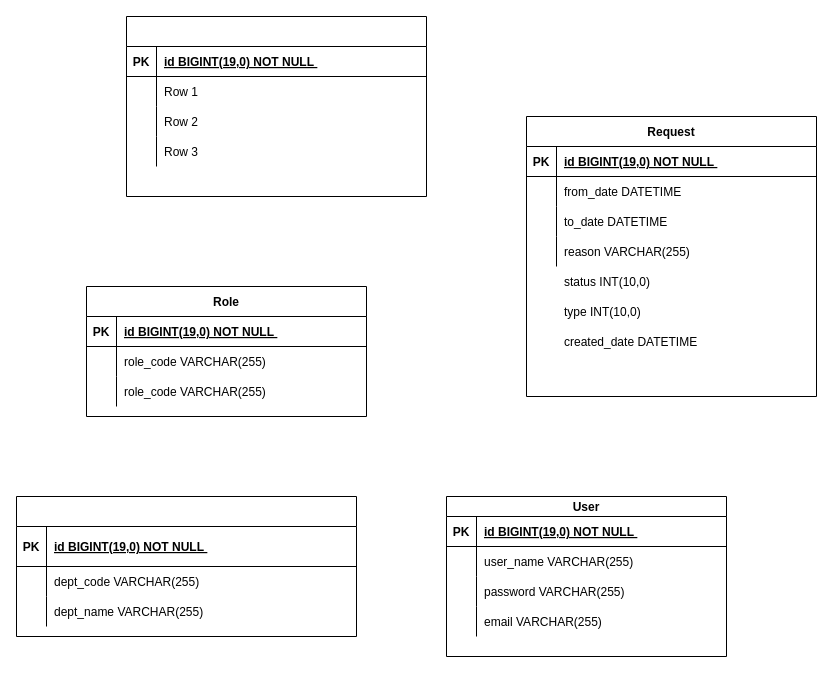
Image size: 833x673. Some labels were removed from this diagram. The shapes that lost their labels are listed below. From the top down, each one's box as (x1, y1, x2, y2) in pixels, then its label:
(126, 16, 426, 196): Material
(16, 496, 356, 636): Department
